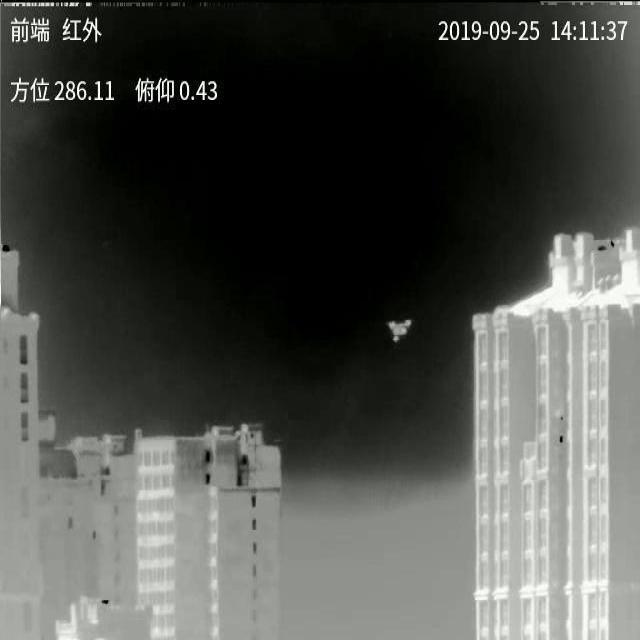drone: (387, 320, 411, 342)
